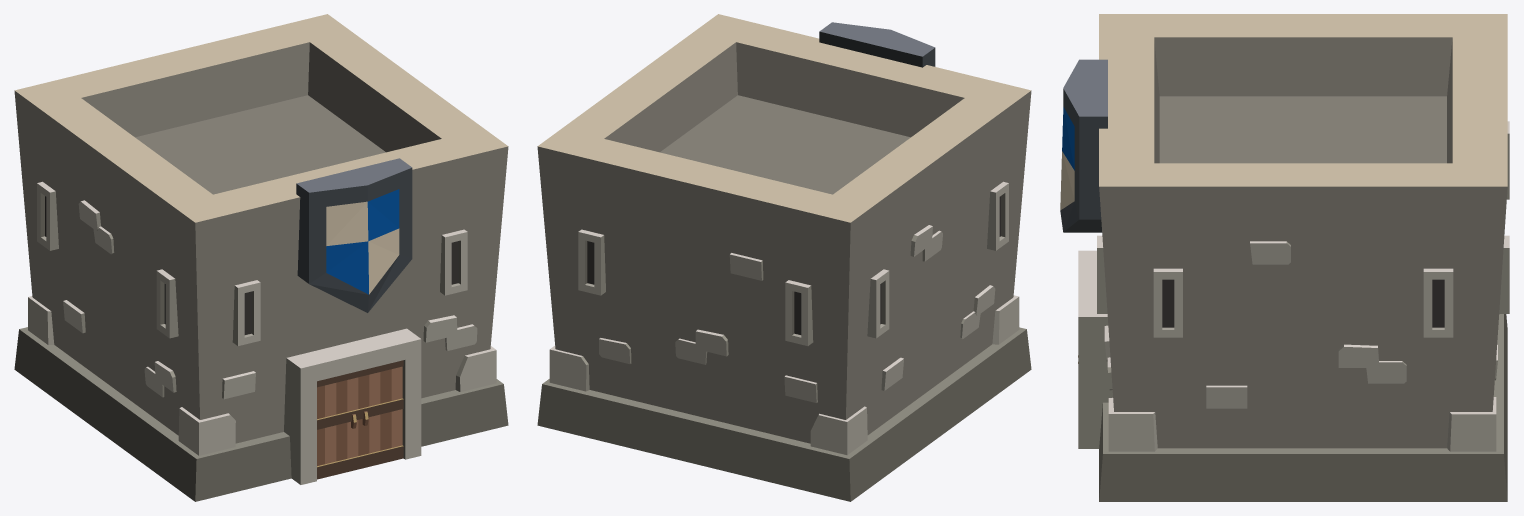
File: TB_Barracks_Lvl1.FBX
The picture shows the model from 3 angles, left to right: view 1: azimuth 30°, elevation 25°; view 2: azimuth 150°, elevation 25°; view 3: azimuth 270°, elevation 25°; orthographic projection. The views are drawn at different scales.
Visible parts, largest first — view 1: TB_Barracks_Lvl1, TB_Barracks_Lvl1_DoorB, TB_Barracks_Lvl1_DoorA; view 2: TB_Barracks_Lvl1; view 3: TB_Barracks_Lvl1.
Boxes of the visible parts, x1,y1,x2,y2 form: TB_Barracks_Lvl1: [14, 14, 508, 501]; TB_Barracks_Lvl1_DoorB: [358, 360, 403, 468]; TB_Barracks_Lvl1_DoorA: [317, 371, 359, 479]; TB_Barracks_Lvl1: [537, 14, 1031, 501]; TB_Barracks_Lvl1: [1060, 14, 1509, 501].
Bounding box in the file's own units: 6.46 × 5.66 × 7.04.
